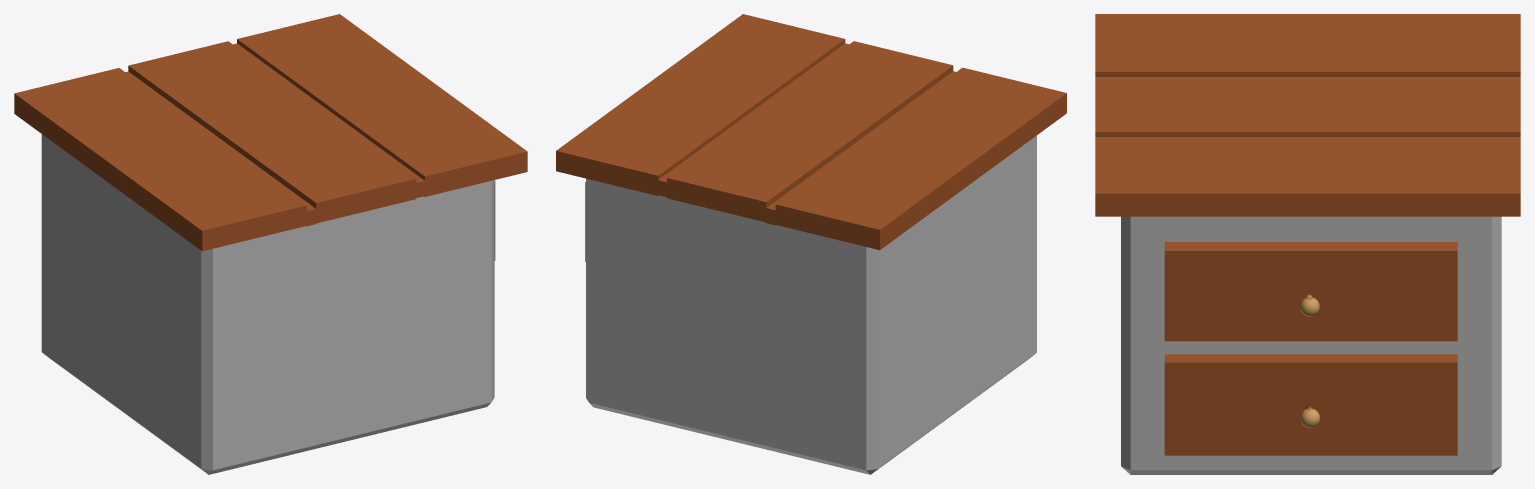
The model's file is työpiste.fbx.
3 renders of one model, left to right at view 1: azimuth 30°, elevation 25°; view 2: azimuth 150°, elevation 25°; view 3: azimuth 270°, elevation 25°, orthographic. The views are drawn at different scales.
Visible parts, largest first — view 1: Cylinder.001; view 2: Cylinder.001; view 3: Cylinder.001.
Part boxes in pixels (<box>): Cylinder.001: <box>14,14,527,474</box>; Cylinder.001: <box>556,14,1066,474</box>; Cylinder.001: <box>1095,14,1520,474</box>.
Size of the model in its own units: 213 by 153 by 200.
